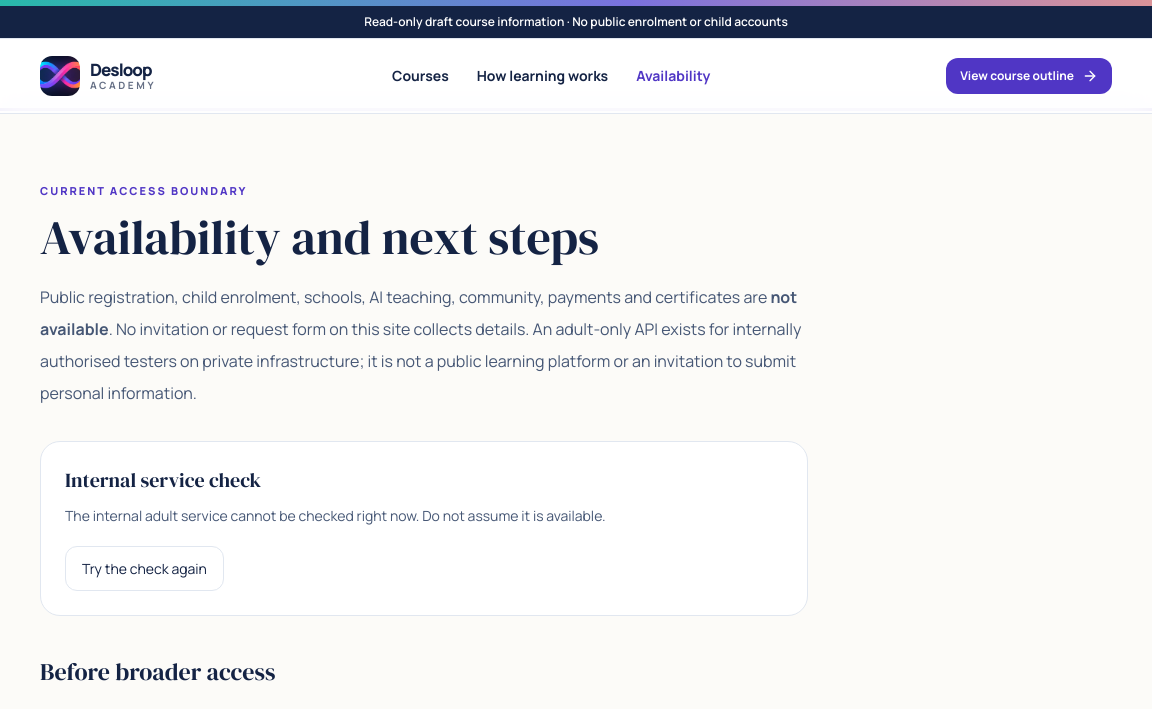
Test case: actual release entry and read-only draft catalogue › keeps an unavailable service truthful, offers retry and never presents public enrolment as open
The width and height of the screenshot is (1152, 709).
Check: the text "internal adult service cannot be checked right now" is shown, box [65, 506, 606, 525]
Click the button "Try the check again" at (144, 569), box [65, 546, 224, 591]
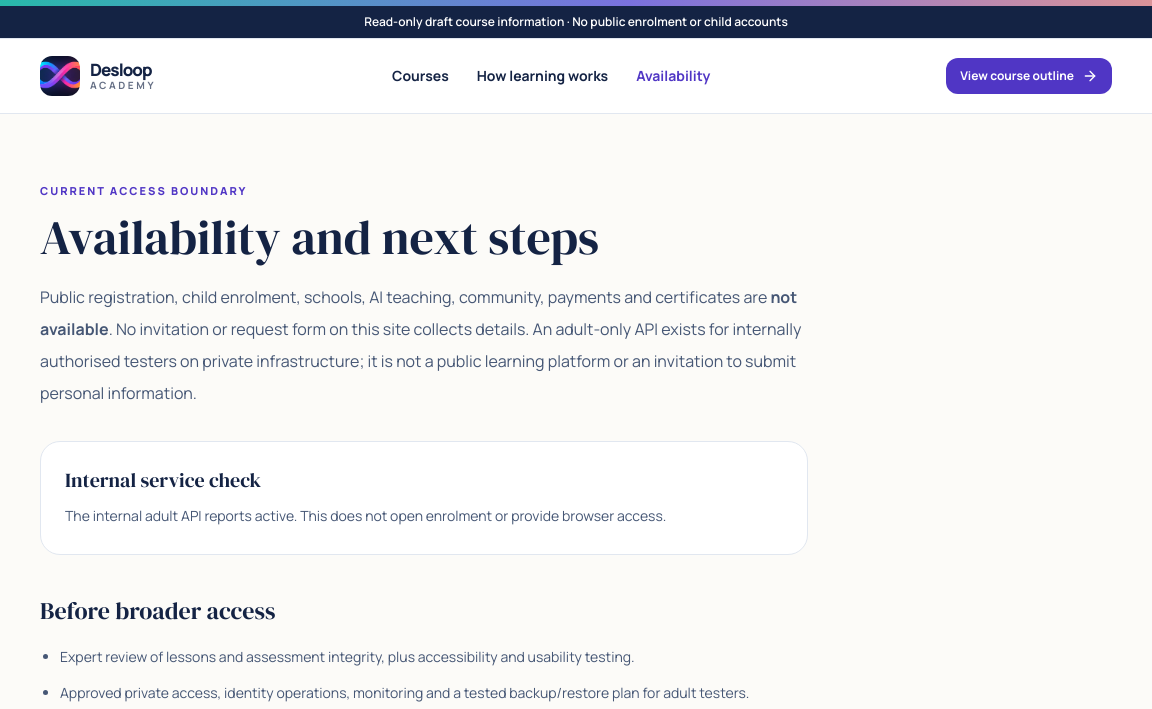
Check: the text "does not open enrolment" is shown, box [65, 506, 666, 525]
